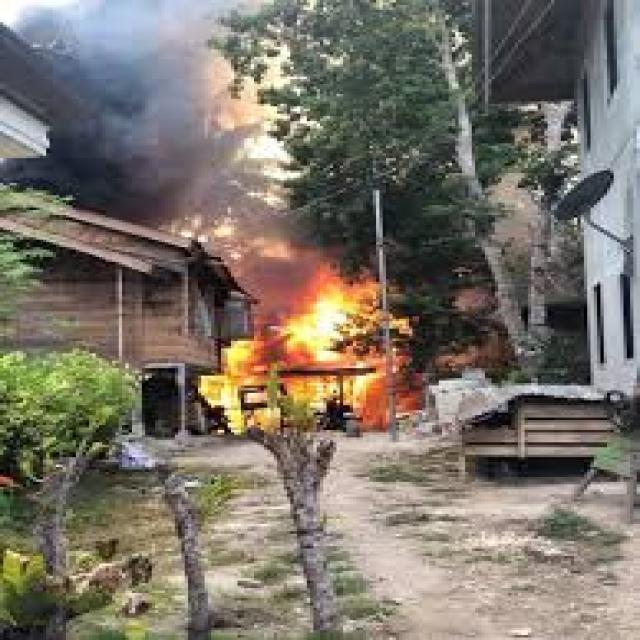Fire: (266, 290, 388, 358), (221, 343, 299, 433), (348, 353, 406, 423)
Smoke: (54, 7, 242, 224)
